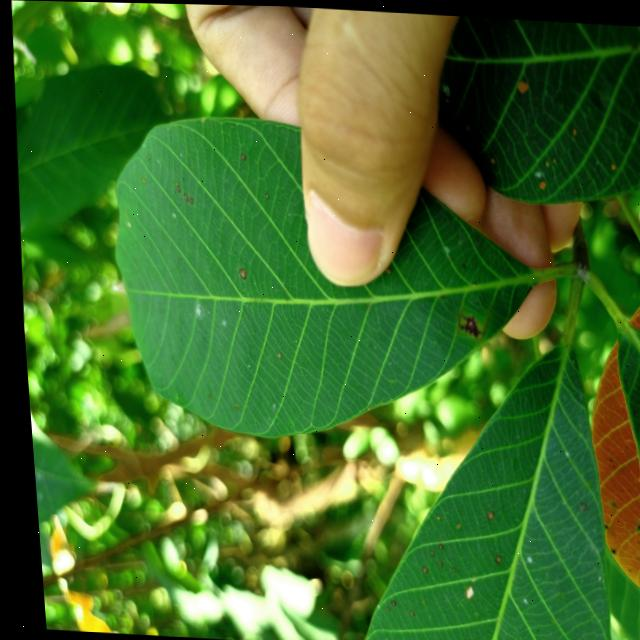Colletotrichum: (477, 506, 486, 516), (235, 265, 242, 277), (485, 552, 493, 561), (179, 190, 186, 200), (412, 563, 419, 571), (238, 150, 244, 159), (380, 597, 387, 603), (429, 540, 435, 546), (399, 607, 405, 613), (173, 183, 177, 191), (261, 191, 266, 197), (429, 557, 434, 563), (421, 548, 426, 553), (186, 196, 190, 202), (442, 564, 446, 568)
Corynespora: (451, 310, 481, 336)
